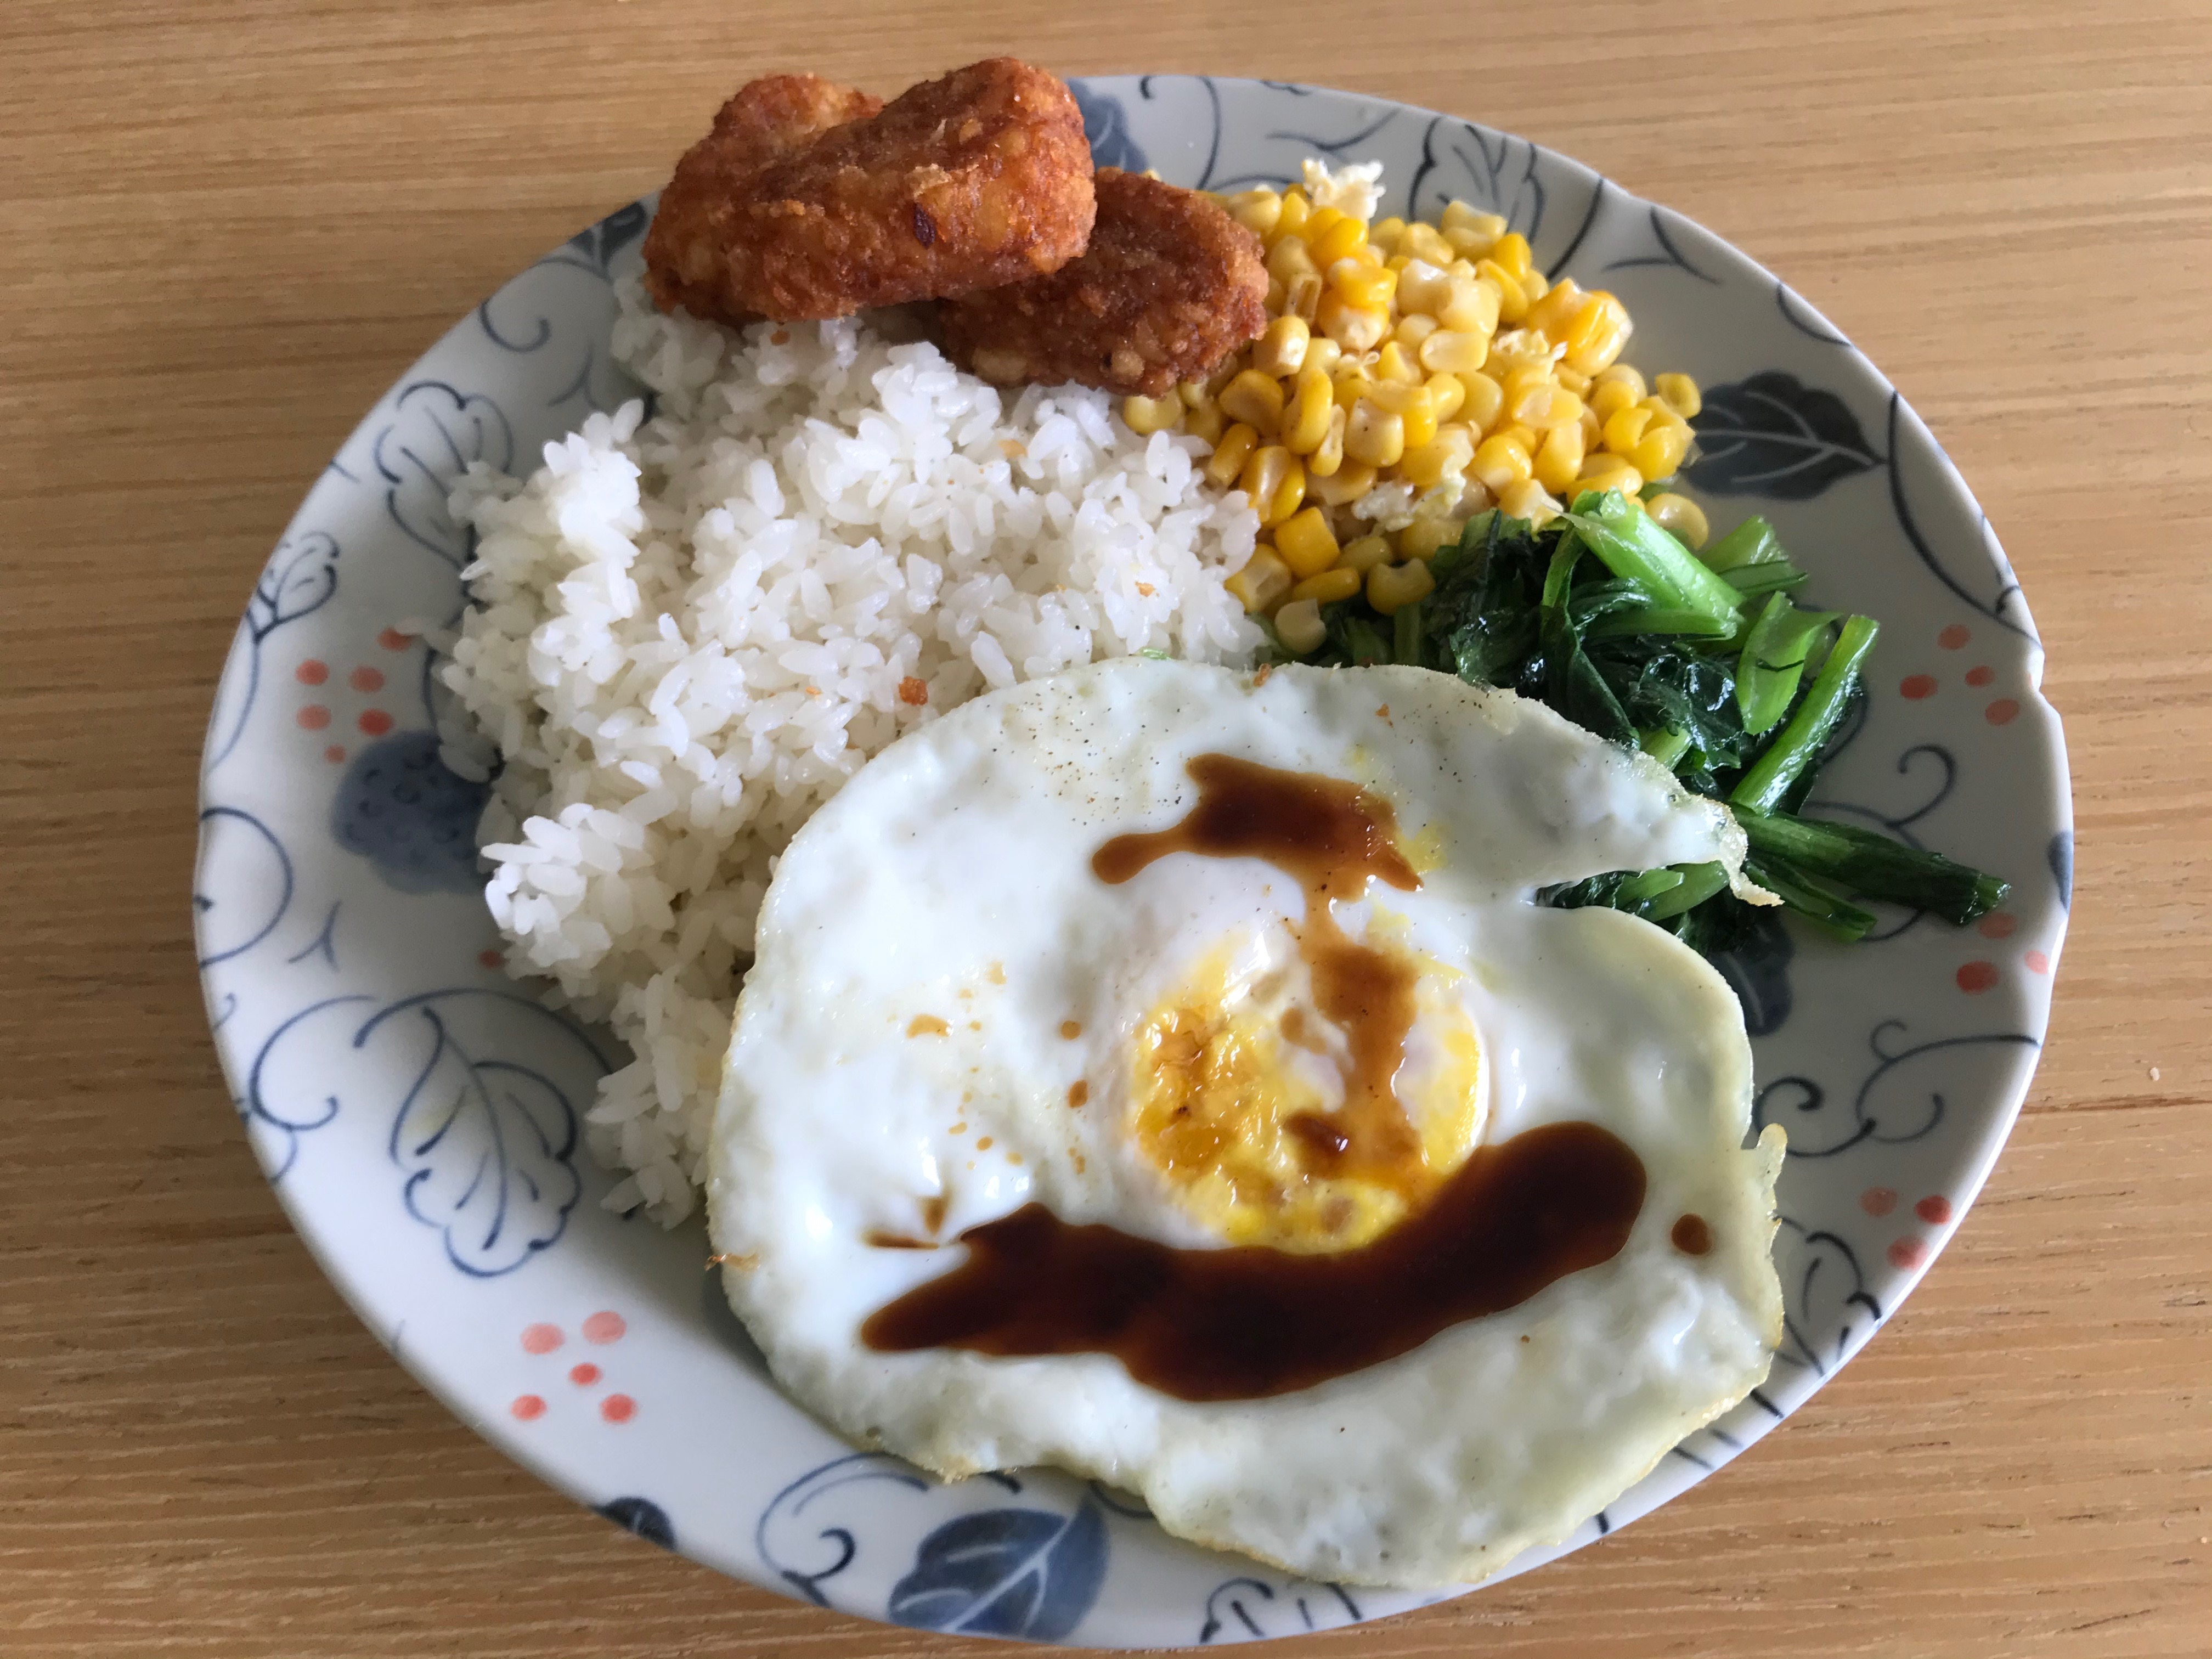fried_eggs: (702, 650, 1785, 1591)
rice: (453, 387, 1130, 863)
triangle_hash_brown: (644, 58, 1271, 401)
water_spinach: (1402, 484, 1879, 951)
